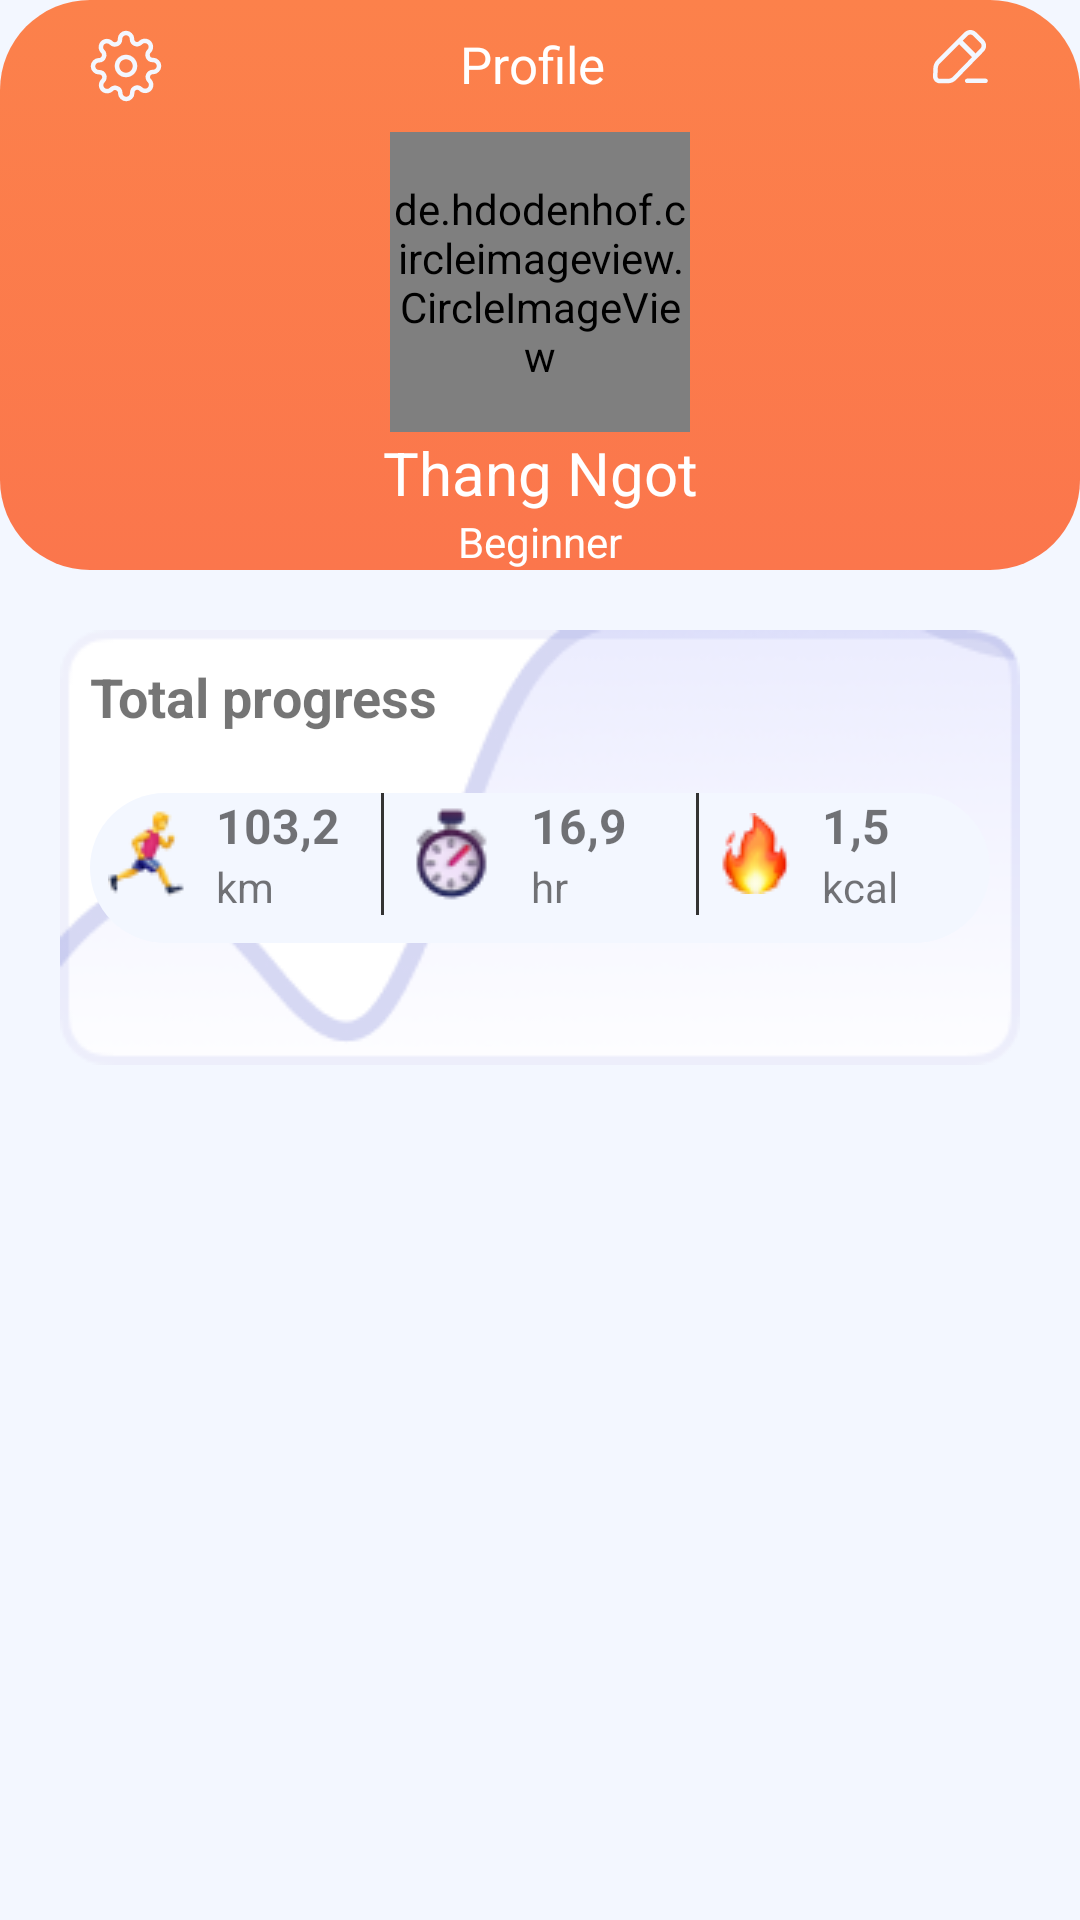

Screen size 1080x1920. Icon name, then its center in pixels as point (x, y):
edit: point (960, 57)
emoji clock: point (451, 854)
emoji fire: point (754, 853)
emoji run: point (146, 853)
gear: point (126, 66)
